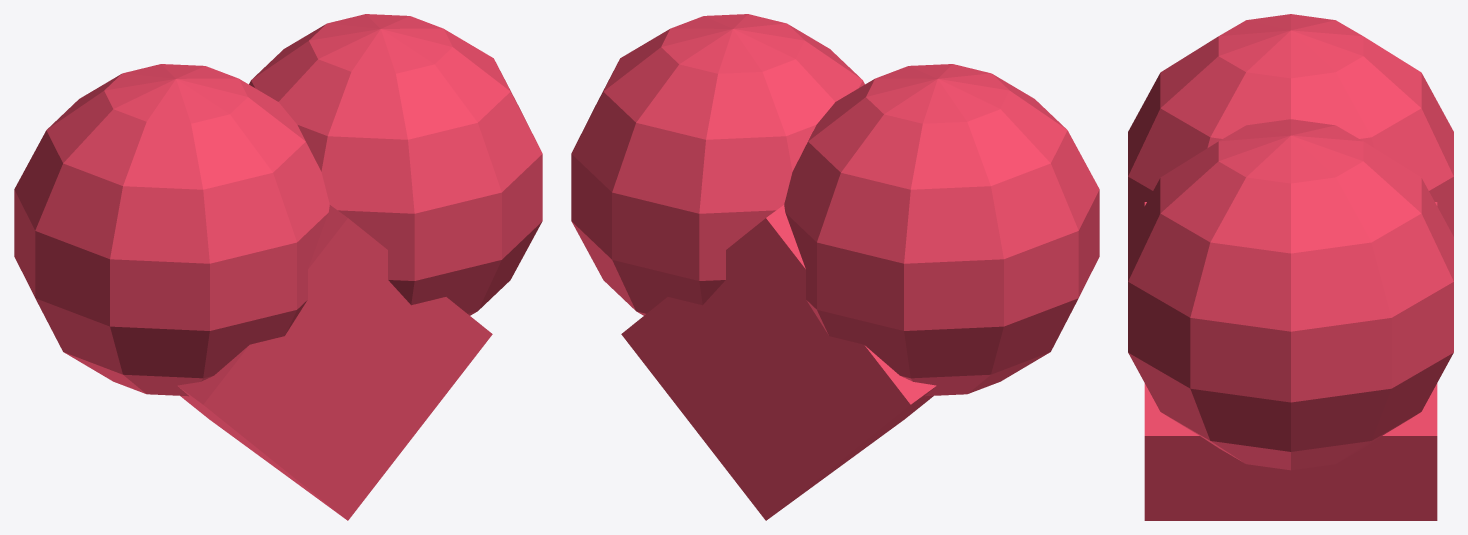
File: heart.obj
The picture shows the model from 3 angles, left to right: view 1: azimuth 30°, elevation 25°; view 2: azimuth 150°, elevation 25°; view 3: azimuth 270°, elevation 25°; orthographic projection. The views are drawn at different scales.
Parts seen in each view (by area): view 1: item; view 2: item; view 3: item.
Boxes of the visible parts, box(x1,y1,x2,y2) form: item: box(14, 14, 542, 520); item: box(571, 14, 1099, 520); item: box(1128, 14, 1453, 520).
Bounding box in the file's own units: 0.404 × 0.3302 × 0.2226.
